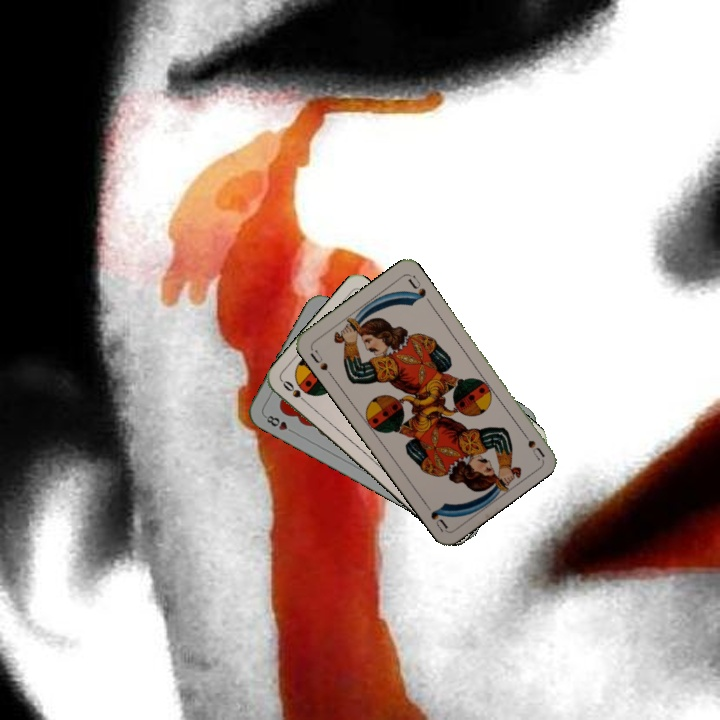H8: (260, 411, 298, 436)
SO: (278, 376, 312, 408)
SU: (516, 425, 547, 462), (306, 346, 336, 380)
